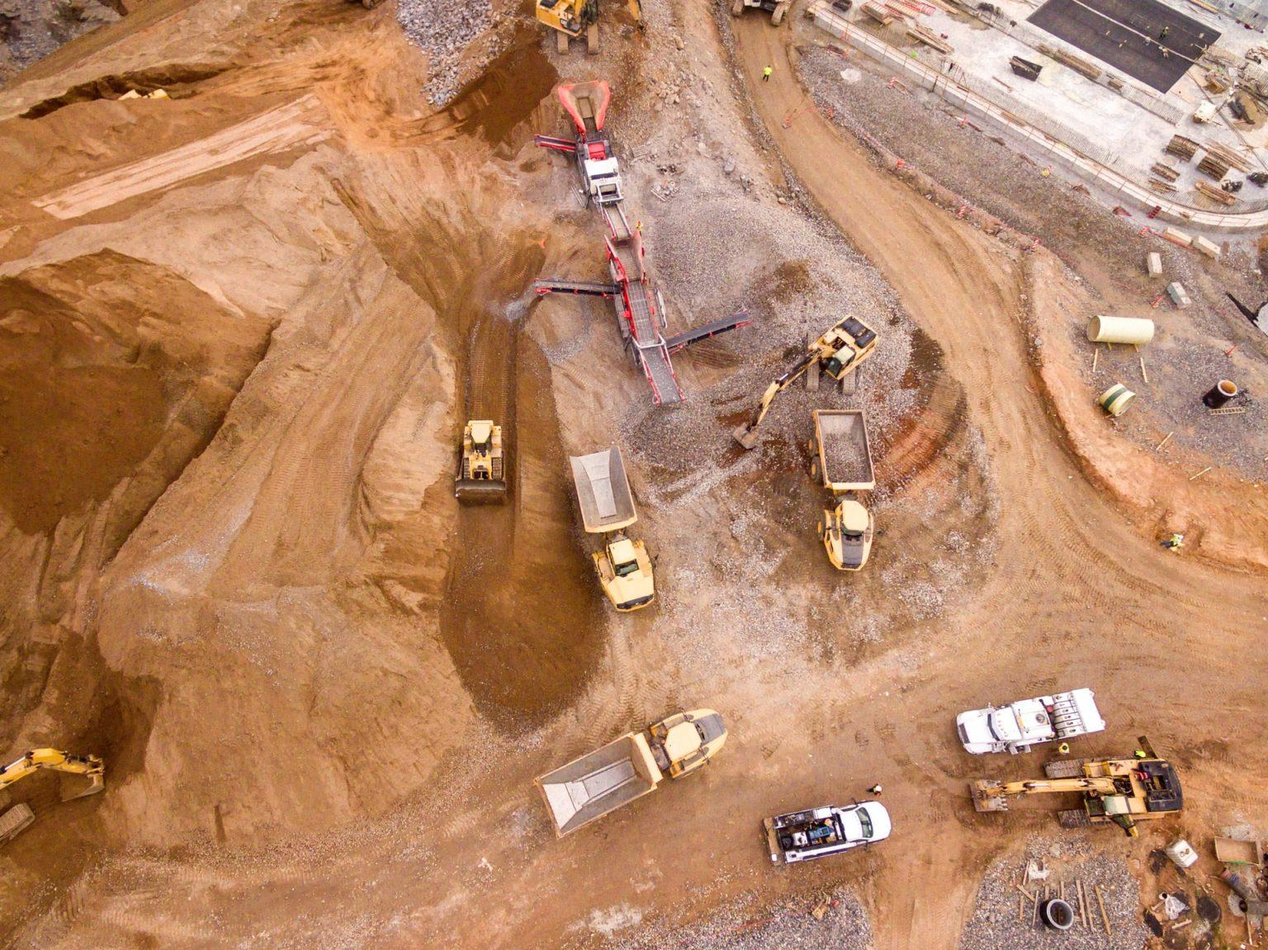ExcavationMachinery: (528, 705, 730, 839), (732, 314, 880, 451), (971, 750, 1186, 839), (567, 442, 656, 613), (807, 408, 878, 572), (556, 78, 627, 208), (532, 1, 646, 57), (450, 414, 515, 505), (731, 1, 798, 27)
Person: (865, 781, 883, 796), (762, 64, 772, 81)
ProcessingEquipment: (1, 734, 107, 845)
Vehicle: (957, 684, 1105, 757), (759, 800, 893, 867)
